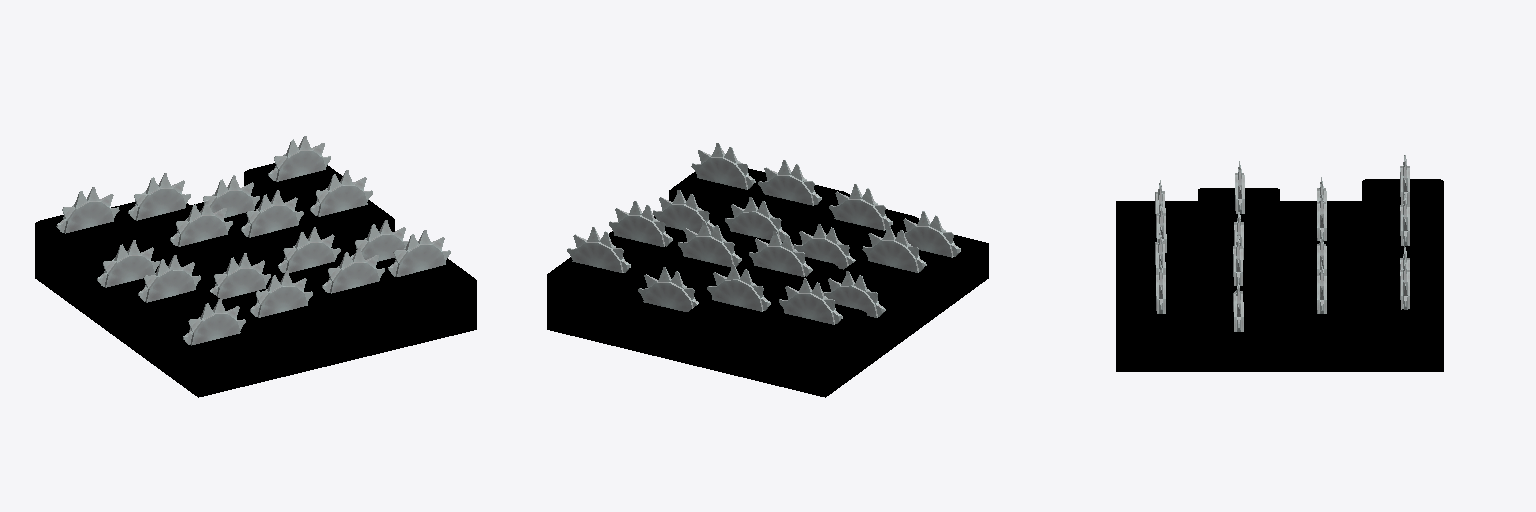
3 renders of one model, left to right at view 1: azimuth 30°, elevation 25°; view 2: azimuth 150°, elevation 25°; view 3: azimuth 270°, elevation 25°, orthographic.
Parts seen in each view (by area): view 1: pCylinder21; view 2: pCylinder21; view 3: pCylinder21.
Part boxes in pixels (bbox=[...]): pCylinder21: bbox=[35, 136, 476, 397]; pCylinder21: bbox=[547, 143, 988, 397]; pCylinder21: bbox=[1116, 155, 1443, 371].
Bounding box in the file's own units: 3.96 × 1.3 × 4.02.
2 materials, 1 textured.